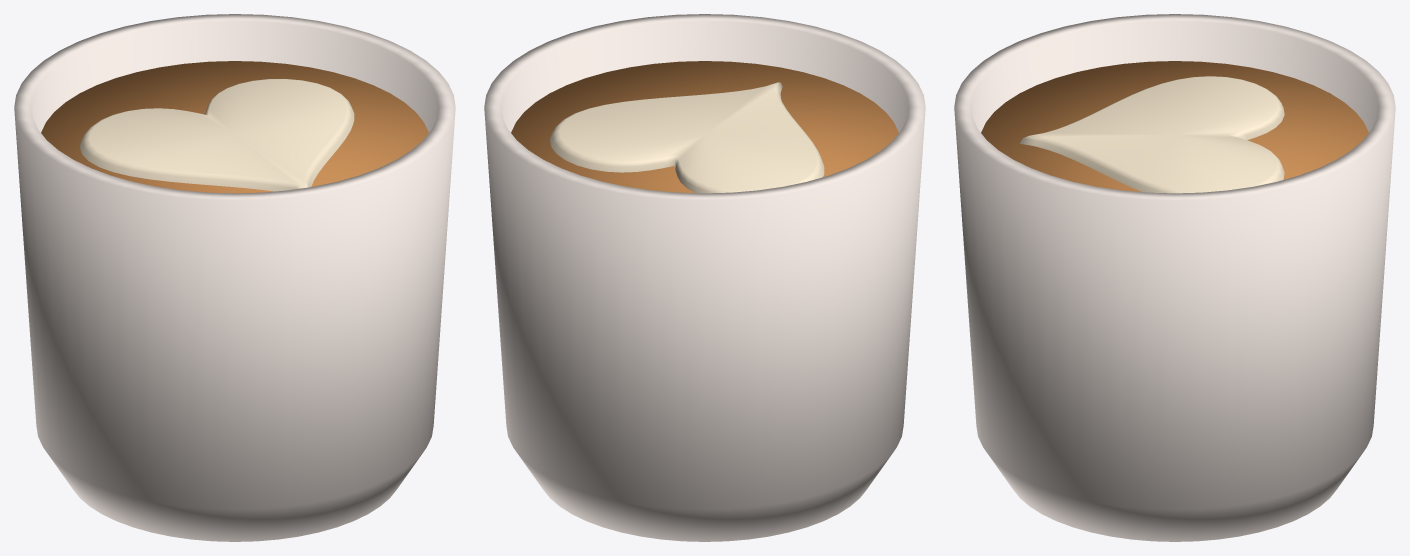
File: Menu_CafeLatte.fbx
3 renders of one model, left to right at view 1: azimuth 30°, elevation 25°; view 2: azimuth 150°, elevation 25°; view 3: azimuth 270°, elevation 25°, orthographic.
Visible parts, largest first — view 1: Menu_CafeLatte.001; view 2: Menu_CafeLatte.001; view 3: Menu_CafeLatte.001.
Part boxes in pixels (x1,y1,x2,y2): Menu_CafeLatte.001: (14, 14, 455, 541); Menu_CafeLatte.001: (484, 14, 925, 541); Menu_CafeLatte.001: (954, 14, 1395, 541).
Size of the model in its own units: 49.66 by 45.15 by 49.66.
